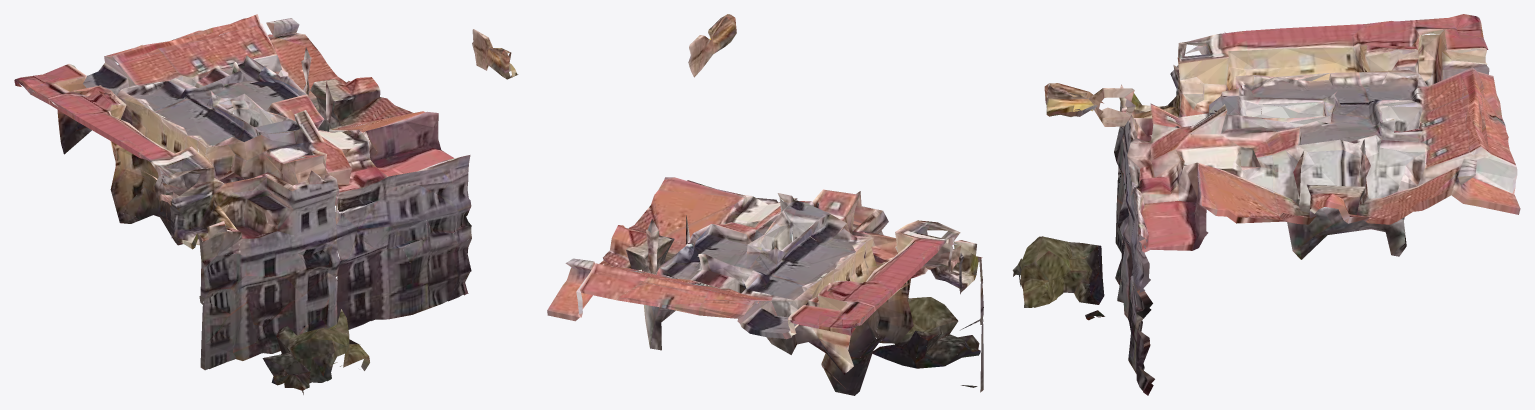
The picture shows the model from 3 angles, left to right: view 1: azimuth 30°, elevation 25°; view 2: azimuth 150°, elevation 25°; view 3: azimuth 270°, elevation 25°; orthographic projection. The views are drawn at different scales.
Parts seen in each view (by area): view 1: Mesh_0; view 2: Mesh_0; view 3: Mesh_0.
Part boxes in pixels (x1,y1,x2,y2): Mesh_0: (14, 14, 518, 394); Mesh_0: (547, 14, 983, 395); Mesh_0: (1012, 14, 1520, 395).
Bounding box in the file's own units: 33.43 × 28.14 × 40.96.
Materials: 2 (2 with a texture image).
